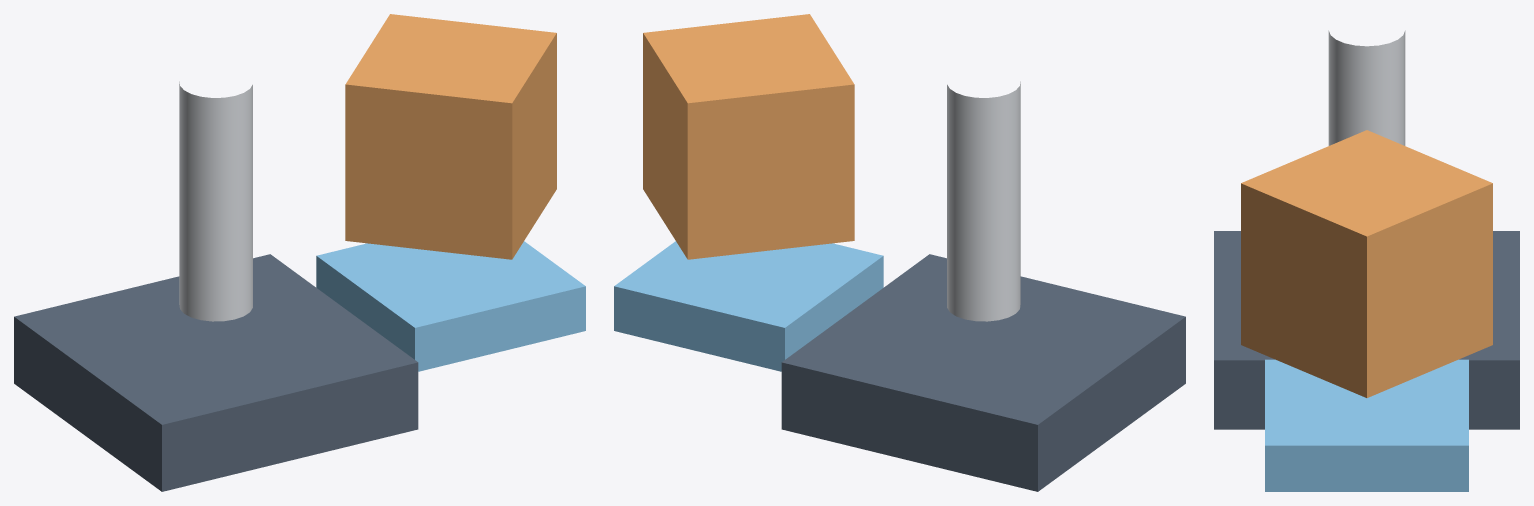
Rendered from iron_carbon_phase_diagram.glb.
3 views of the same model, side by side, from view 1: azimuth 30°, elevation 25°; view 2: azimuth 150°, elevation 25°; view 3: azimuth 270°, elevation 25° (orthographic). The views are drawn at different scales.
Parts seen in each view (by area): view 1: MicroscopeStandBase, AusteniteFCCLatticeCube, PearliteLamellarPlate, MicroscopeOpticsTube; view 2: MicroscopeStandBase, AusteniteFCCLatticeCube, PearliteLamellarPlate, MicroscopeOpticsTube; view 3: AusteniteFCCLatticeCube, PearliteLamellarPlate, MicroscopeStandBase, MicroscopeOpticsTube.
Part boxes in pixels (box(x1,y1,x2,y2)): MicroscopeStandBase: box(14, 254, 418, 491); AusteniteFCCLatticeCube: box(345, 14, 556, 259); PearliteLamellarPlate: box(316, 241, 585, 371); MicroscopeOpticsTube: box(179, 81, 252, 321); MicroscopeStandBase: box(781, 254, 1185, 491); AusteniteFCCLatticeCube: box(643, 14, 854, 259); PearliteLamellarPlate: box(614, 241, 883, 371); MicroscopeOpticsTube: box(947, 81, 1020, 321); AusteniteFCCLatticeCube: box(1241, 130, 1492, 397); PearliteLamellarPlate: box(1265, 359, 1468, 491); MicroscopeStandBase: box(1214, 231, 1519, 429); MicroscopeOpticsTube: box(1328, 30, 1405, 145).
Bounding box in the file's own units: 2.19 × 1.45 × 1.2.
